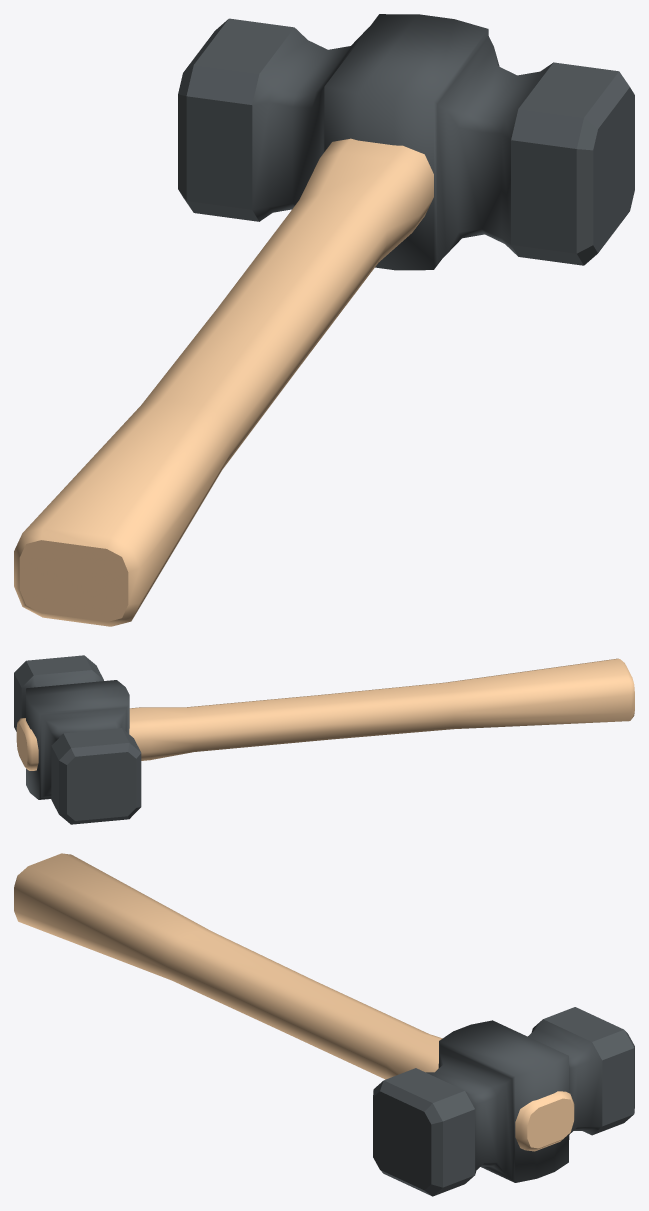
Rendered from ToyObject_037.fbx.
3 renders of one model, top to bottom at view 1: azimuth 30°, elevation 25°; view 2: azimuth 150°, elevation 25°; view 3: azimuth 270°, elevation 25°, orthographic. The views are drawn at different scales.
Parts seen in each view (by area): view 1: Object.042; view 2: Object.042; view 3: Object.042.
Part boxes in pixels (x1=…): Object.042: x1=14, y1=14, x2=634, y2=626; Object.042: x1=14, y1=655, x2=634, y2=824; Object.042: x1=14, y1=853, x2=634, y2=1196.
Size of the model in its own units: 0.2198 by 0.0399 by 0.2071.
